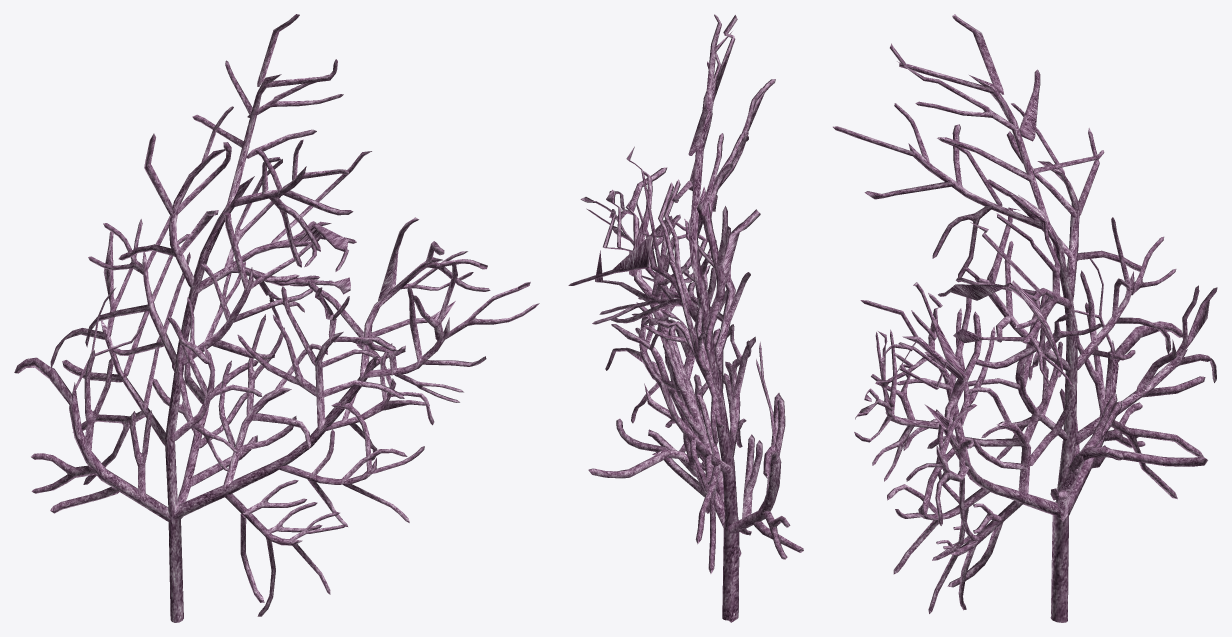
File: FanCoralCluster.002_FBX_still.fbx
3 renders of one model, left to right at view 1: azimuth 30°, elevation 25°; view 2: azimuth 150°, elevation 25°; view 3: azimuth 270°, elevation 25°, orthographic. The views are drawn at different scales.
Parts seen in each view (by area): view 1: FanCoralCluster.002_gameasset; view 2: FanCoralCluster.002_gameasset; view 3: FanCoralCluster.002_gameasset.
Boxes of the visible parts, x1,y1,x2,y2 form: FanCoralCluster.002_gameasset: [14, 14, 539, 622]; FanCoralCluster.002_gameasset: [568, 14, 803, 622]; FanCoralCluster.002_gameasset: [833, 14, 1217, 622].
Size of the model in its own units: 2.48 by 4.04 by 2.2.
1 material, 1 textured.
